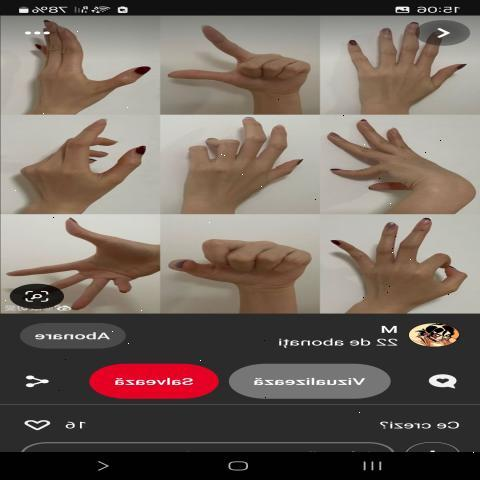Hands: (12, 210, 170, 313), (5, 15, 153, 114), (169, 108, 311, 211), (326, 216, 479, 308), (326, 18, 470, 109)
